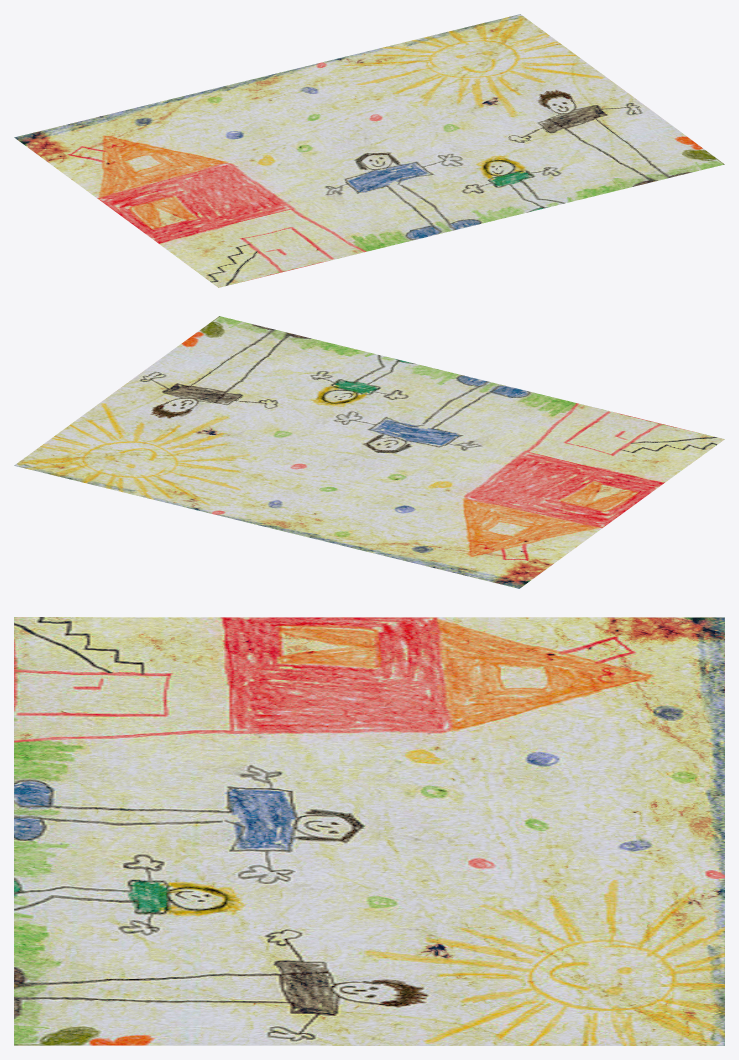
Rendered from Paper.fbx.
The picture shows the model from 3 angles, top to bottom: view 1: azimuth 30°, elevation 25°; view 2: azimuth 150°, elevation 25°; view 3: azimuth 270°, elevation 25°; orthographic projection. The views are drawn at different scales.
Parts seen in each view (by area): view 1: pPlane1; view 2: pPlane1; view 3: pPlane1.
Boxes of the visible parts, <box> form: pPlane1: <box>14,14,724,287</box>; pPlane1: <box>14,316,724,588</box>; pPlane1: <box>14,617,724,1045</box>.
Bounding box in the file's own units: 0.9987 × 0.000439 × 0.7.
1 material, 1 textured.
